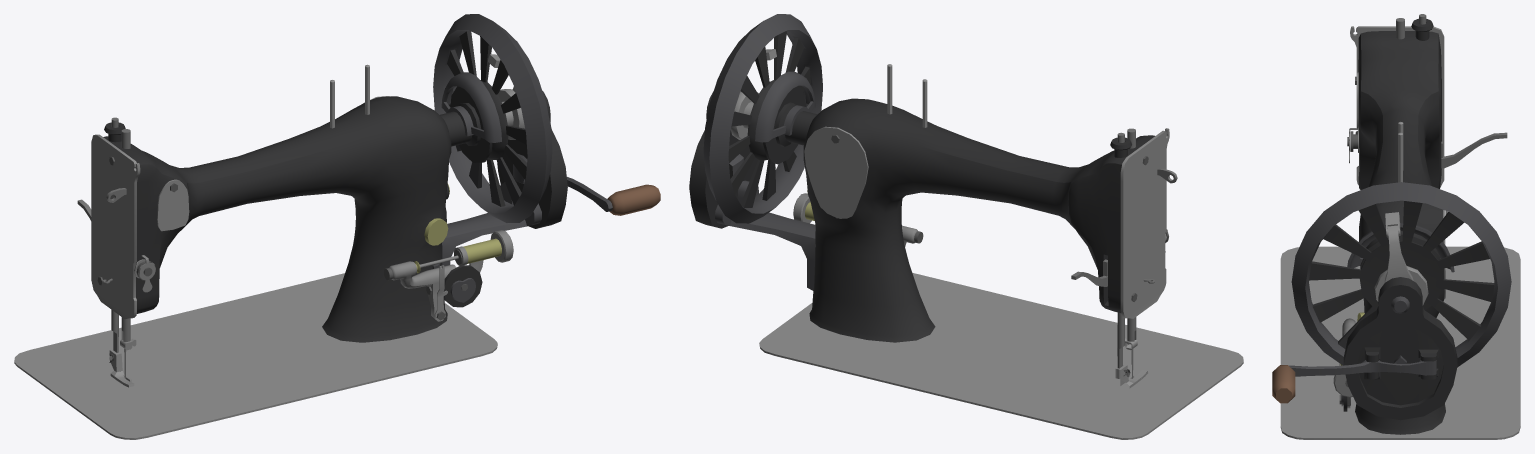
File: new_sewingMachine.fbx
3 views of the same model, side by side, from view 1: azimuth 30°, elevation 25°; view 2: azimuth 150°, elevation 25°; view 3: azimuth 270°, elevation 25° (orthographic). The views are drawn at different scales.
Parts seen in each view (by area): view 1: sewing-machine-1; view 2: sewing-machine-1; view 3: sewing-machine-1.
Part boxes in pixels (x1,y1,x2,y2): sewing-machine-1: (14,14,660,439); sewing-machine-1: (689,14,1243,439); sewing-machine-1: (1272,14,1520,439).
Size of the model in its own units: 104 by 51.17 by 41.04.
